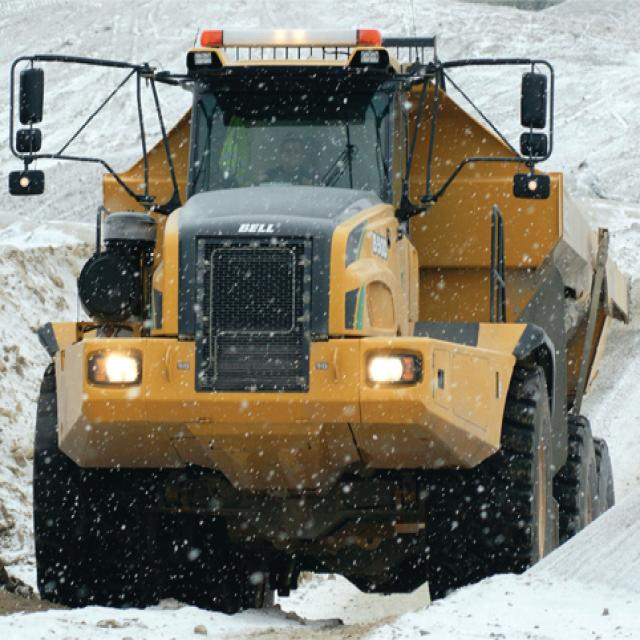dump_truck: (5, 24, 620, 601)
